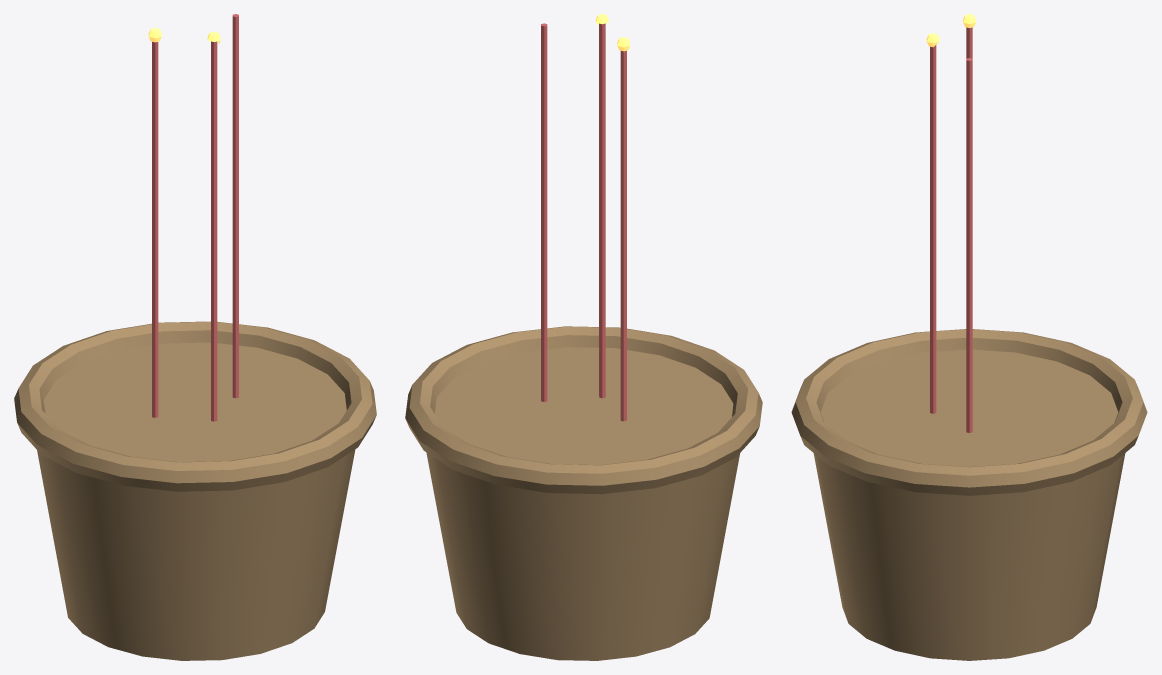
The model's file is bat_nhang_tram.glb.
3 views of the same model, side by side, from view 1: azimuth 30°, elevation 25°; view 2: azimuth 150°, elevation 25°; view 3: azimuth 270°, elevation 25° (orthographic). The views are drawn at different scales.
Parts seen in each view (by area): view 1: bat_nhang_tram.001; view 2: bat_nhang_tram.001; view 3: bat_nhang_tram.001.
Part boxes in pixels (left/top/right/bottom): bat_nhang_tram.001: left=14, top=14, right=376, bottom=660; bat_nhang_tram.001: left=405, top=14, right=762, bottom=660; bat_nhang_tram.001: left=791, top=14, right=1147, bottom=660.
Size of the model in its own units: 0.1799 by 0.3201 by 0.1799.
